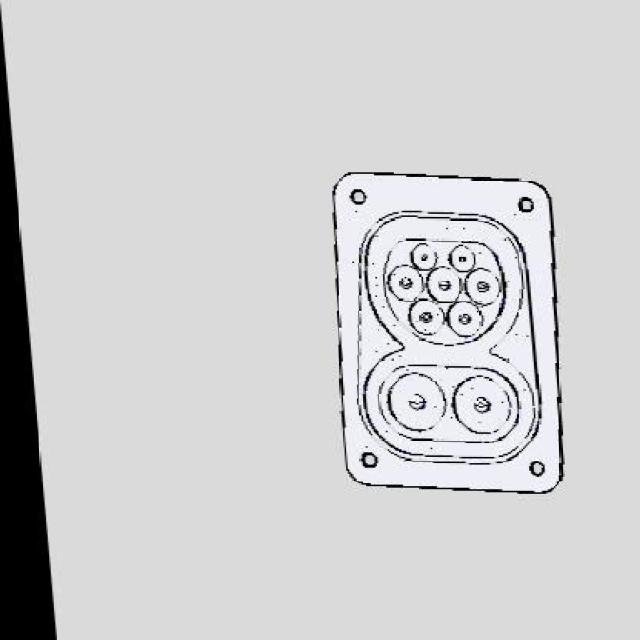CCS2: (318, 216, 545, 503)
